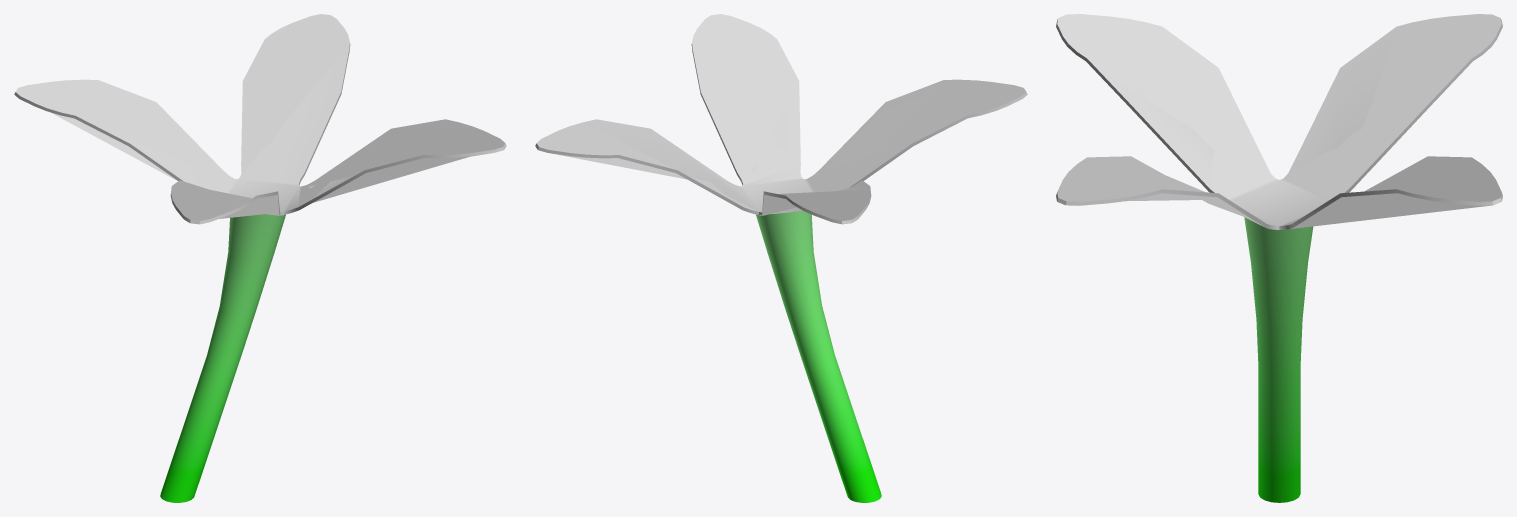
File: flower_003.fbx
The picture shows the model from 3 angles, left to right: view 1: azimuth 30°, elevation 25°; view 2: azimuth 150°, elevation 25°; view 3: azimuth 270°, elevation 25°; orthographic projection. The views are drawn at different scales.
Parts seen in each view (by area): view 1: Circle; view 2: Circle; view 3: Circle.
Boxes of the visible parts, x1,y1,x2,y2 form: Circle: [14, 14, 506, 502]; Circle: [535, 14, 1027, 502]; Circle: [1056, 14, 1502, 502].
Size of the model in its own units: 17.68 by 19.01 by 17.68.
2 materials, 1 textured.
